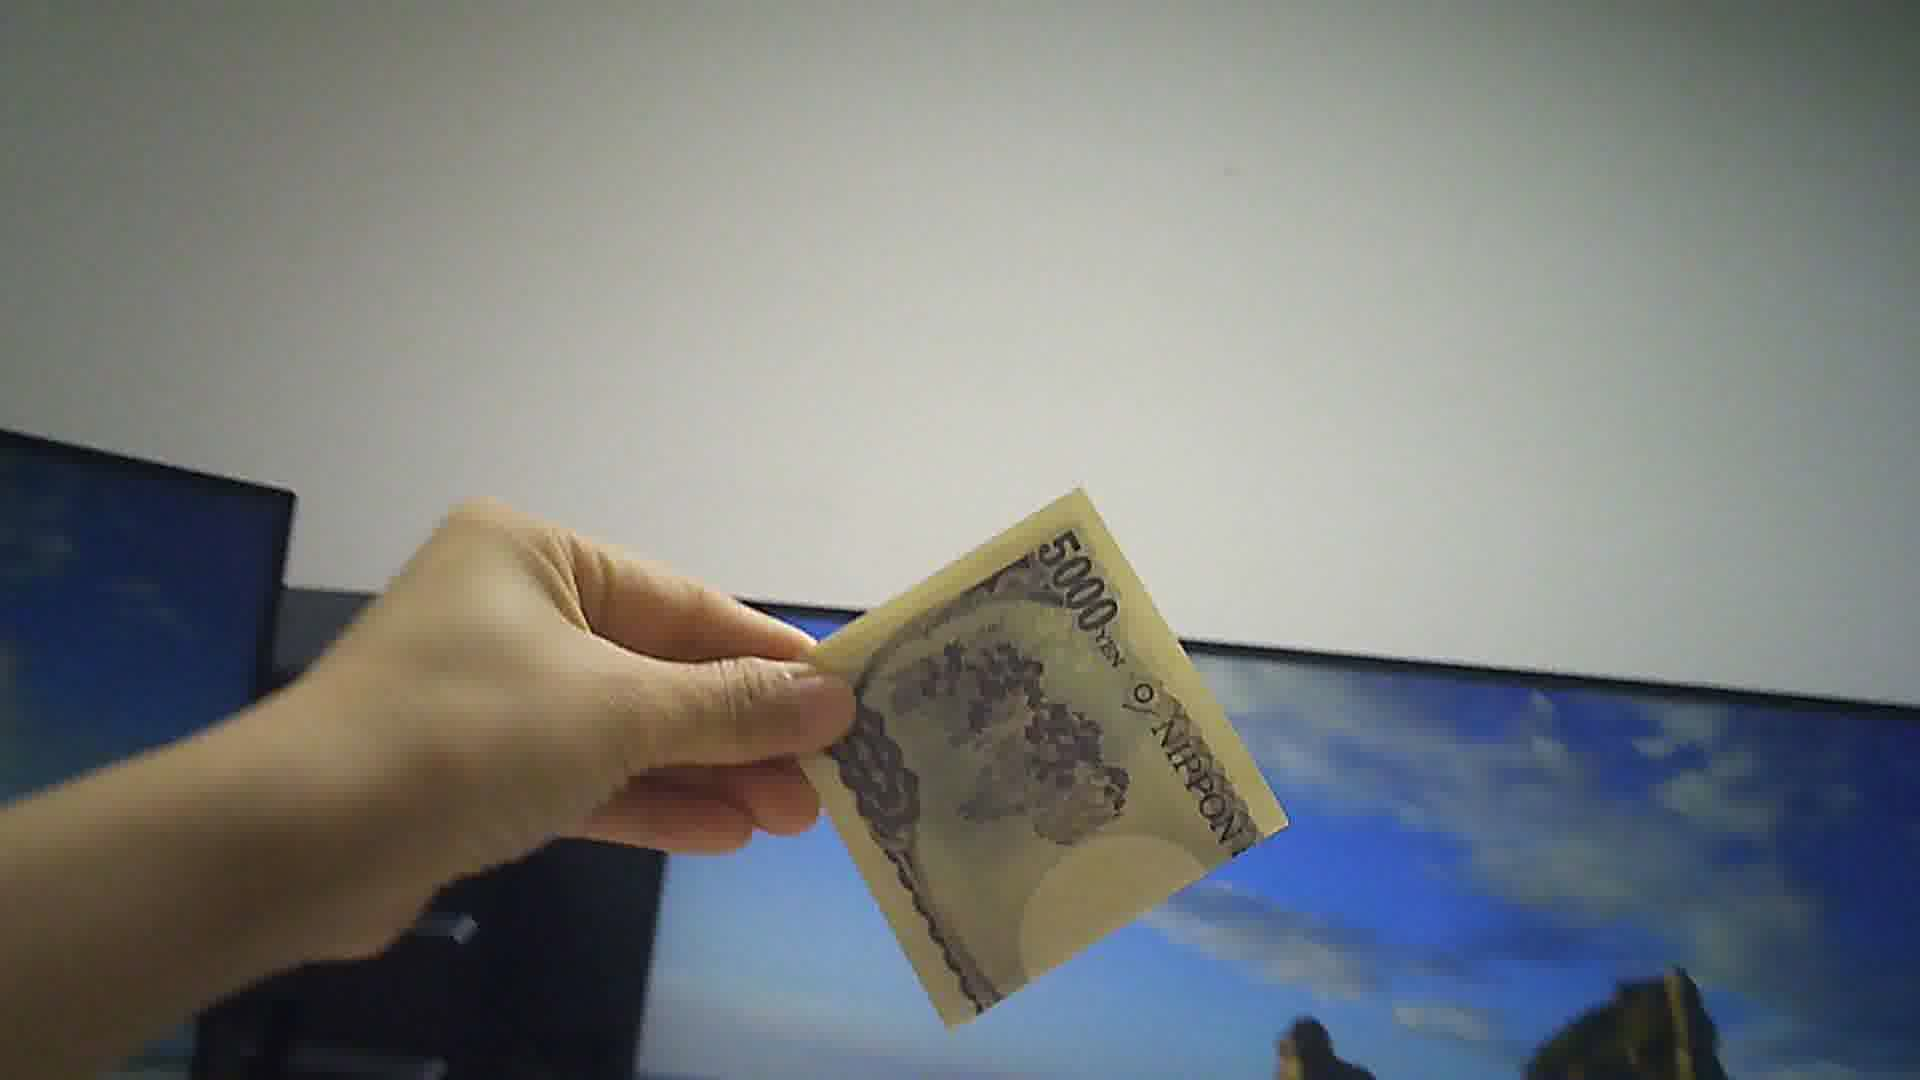5,000 Yen: (760, 462, 1315, 1018)
